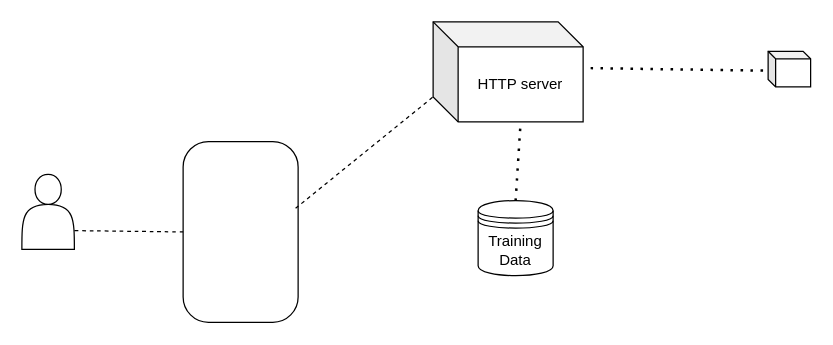
This 833x345 diagram has some shape labels left out. The shapes that lost their labels are listed below. From the top down, each one's centre as x and y in pixels, then its label:
pixel 789 68: tesla
pixel 240 231: UI Client
